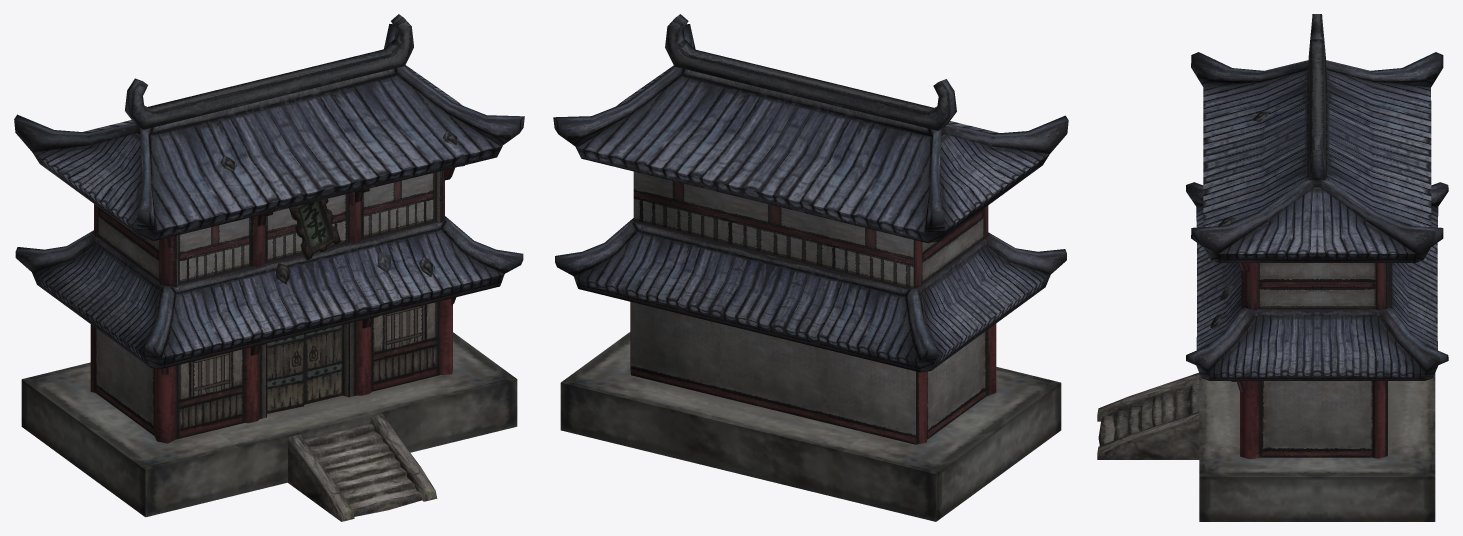
File: STR_GateTempleExt.FBX
The picture shows the model from 3 angles, left to right: view 1: azimuth 30°, elevation 25°; view 2: azimuth 150°, elevation 25°; view 3: azimuth 270°, elevation 25°; orthographic projection. The views are drawn at different scales.
Visible parts, largest first — view 1: STR_GateTempleExt; view 2: STR_GateTempleExt; view 3: STR_GateTempleExt.
Part boxes in pixels (box(x1,y1,x2,y2)): STR_GateTempleExt: box(14, 14, 524, 521); STR_GateTempleExt: box(553, 14, 1068, 521); STR_GateTempleExt: box(1097, 14, 1448, 521).
Size of the model in its own units: 1276 by 1197 by 1057.
1 material, 1 textured.
